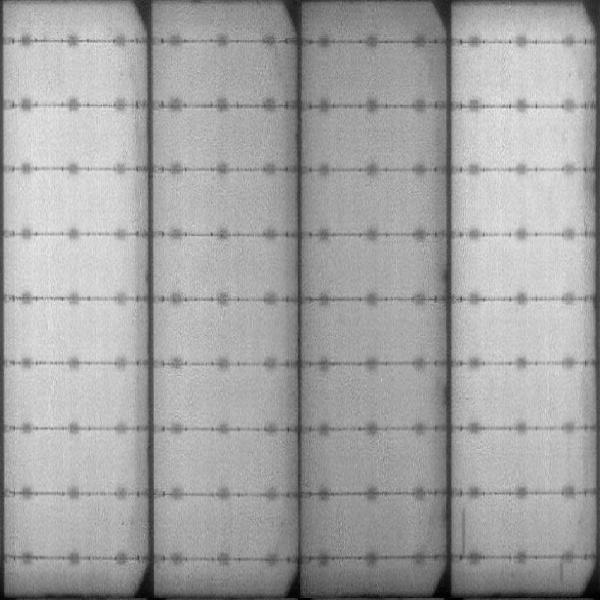scratch: (457, 506, 470, 560)
